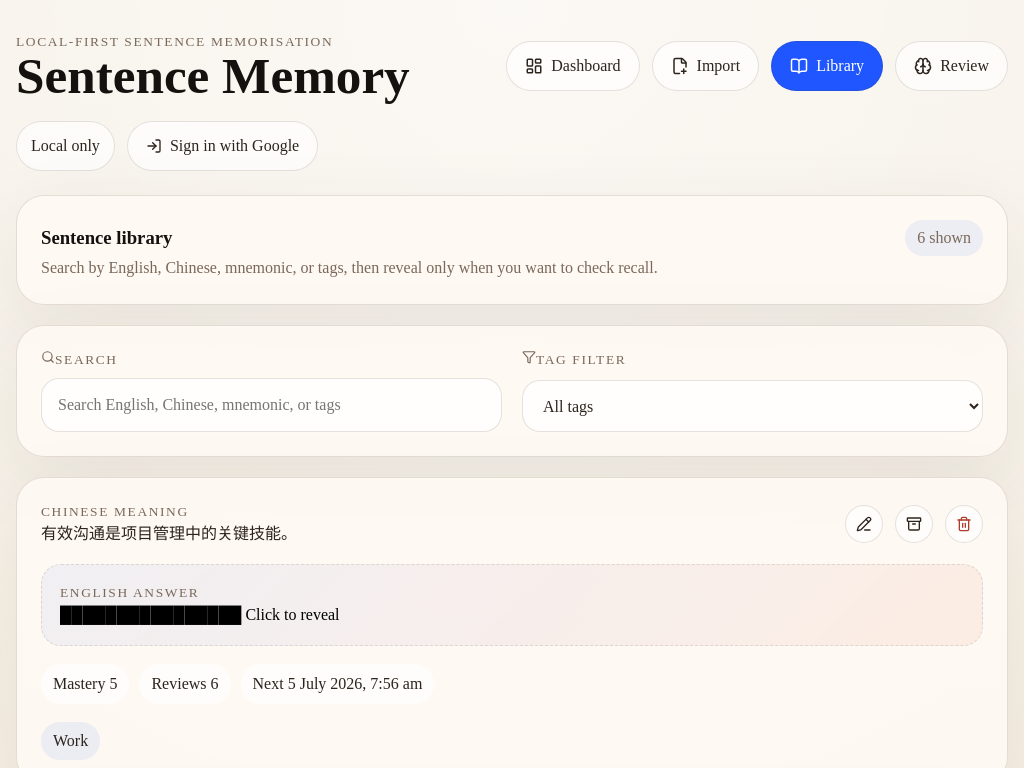
Scenario: App acceptance flow › keeps long revealed sentences readable inside the library card
Expected: the heading "Sentence library" is shown, [41,224,172,252]
Type "committee insisted" into the field with placeholder "Search English, Chinese, mnemonic, or tags" at (272,405), box [41,378,502,432]
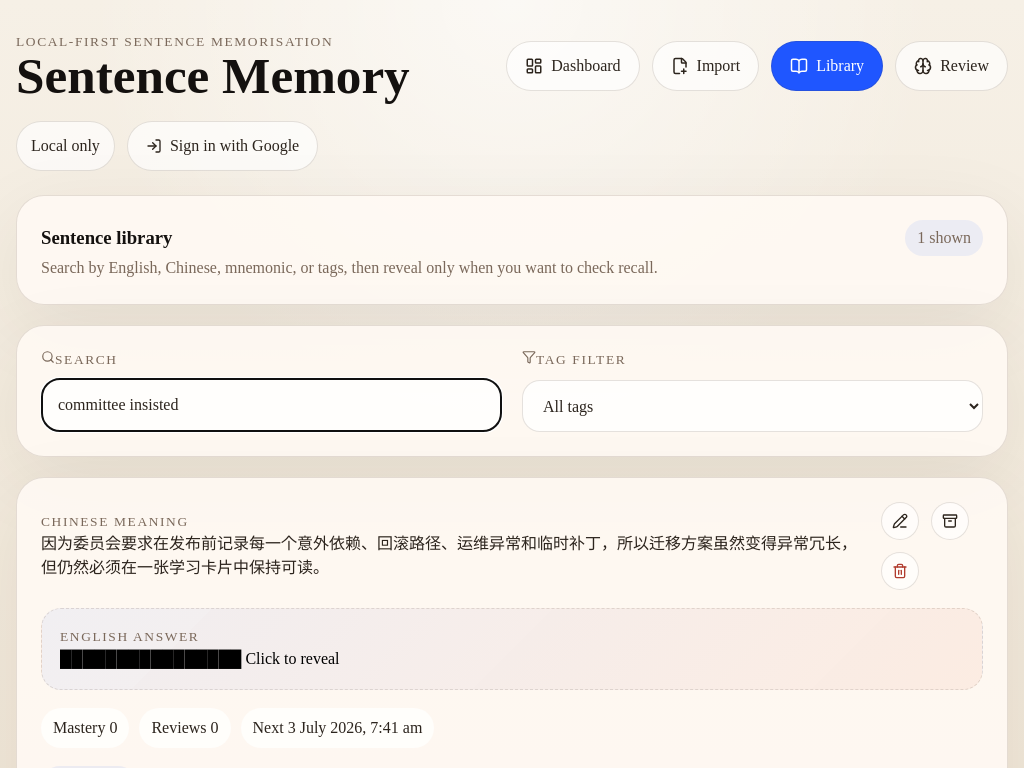
Click the button "English answer ████████████████ Click to reveal" at (130,636), box [41,608,983,690]
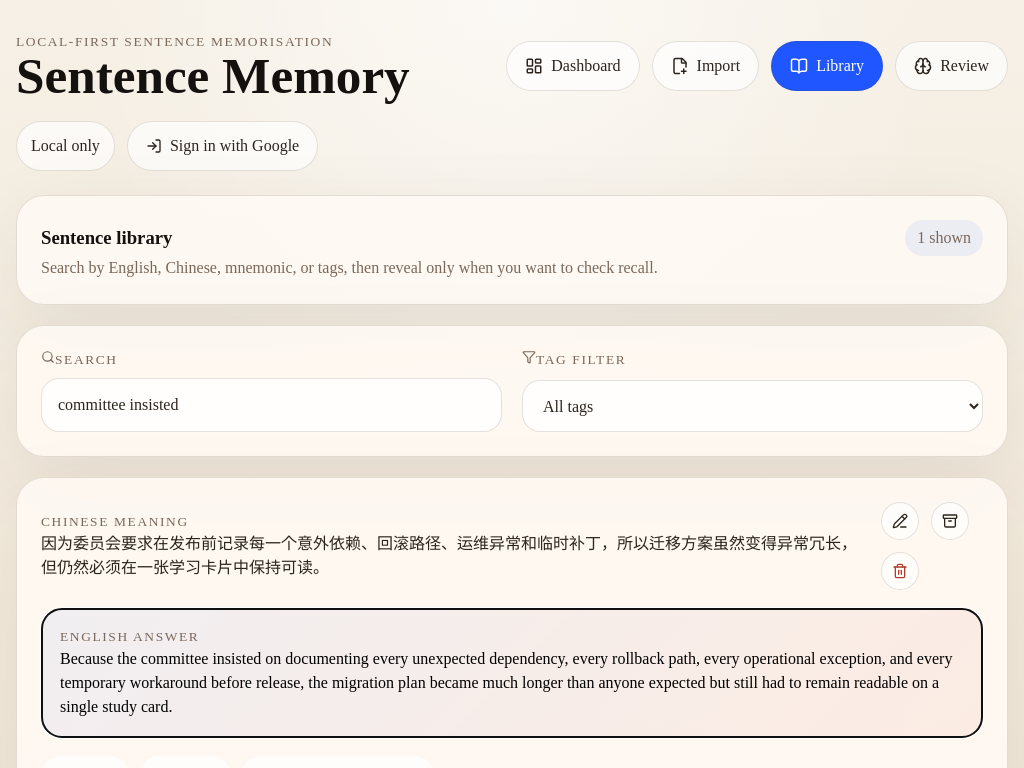
Expected: the text "Because the committee insisted on documenting every unexpected dependency" is shown, [60,650,952,715]
